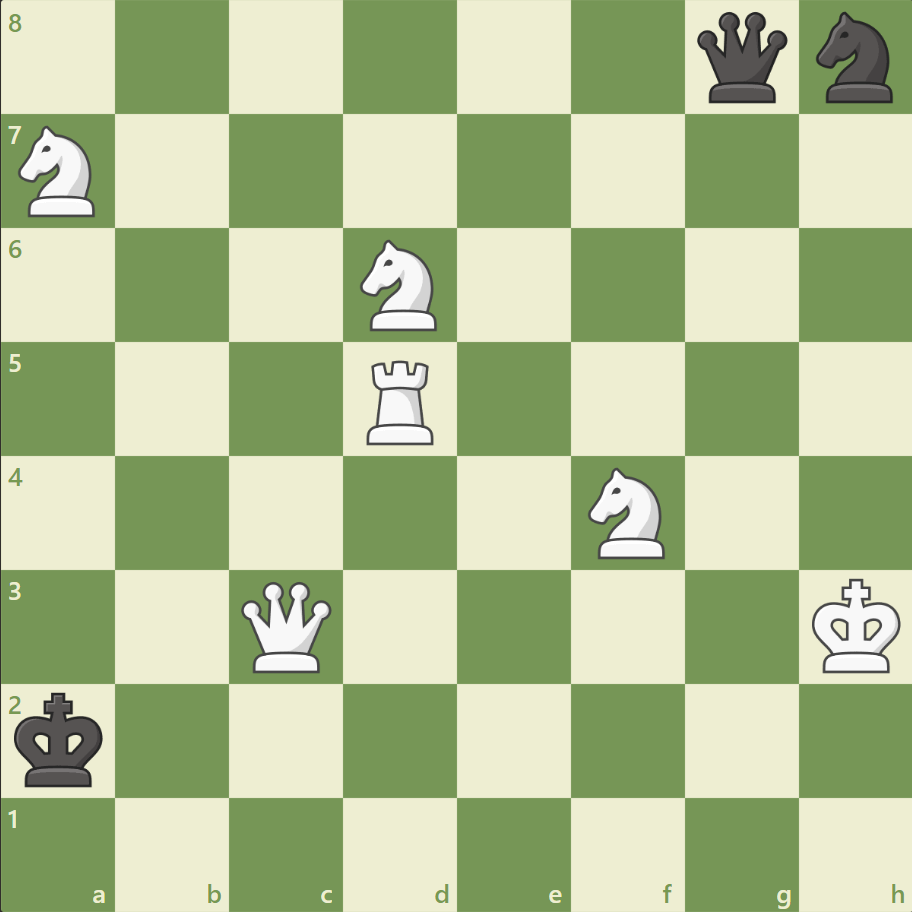K: (806, 571, 906, 679)
N: (351, 234, 449, 337), (579, 461, 676, 564), (11, 121, 108, 223)
Q: (237, 576, 336, 676)
R: (360, 352, 442, 449)
k: (11, 685, 111, 793)
n: (806, 7, 903, 110)
q: (691, 9, 790, 108)
